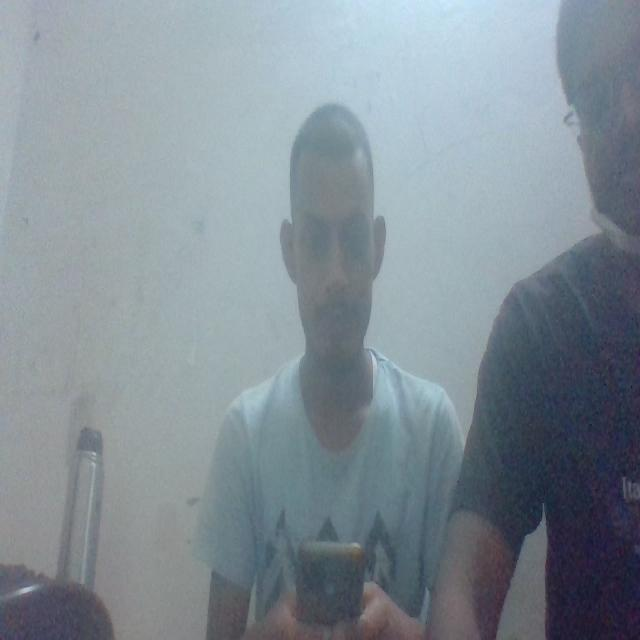Phone: (288, 534, 370, 634)
